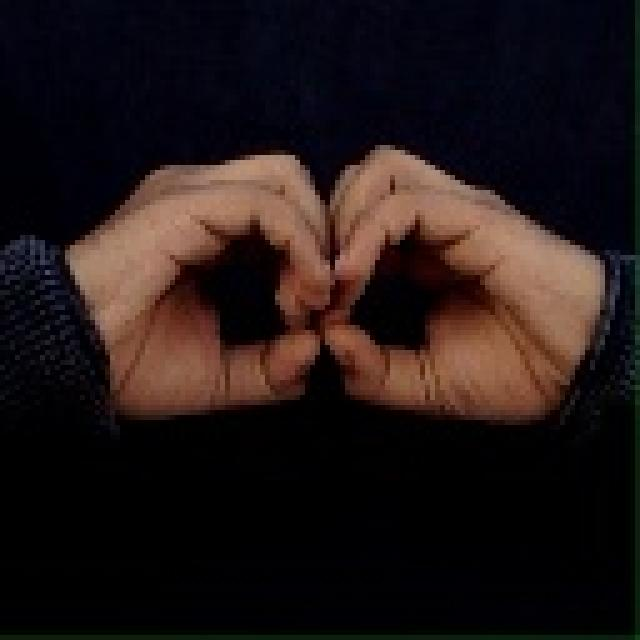Alphabet-B: (57, 135, 613, 440)
